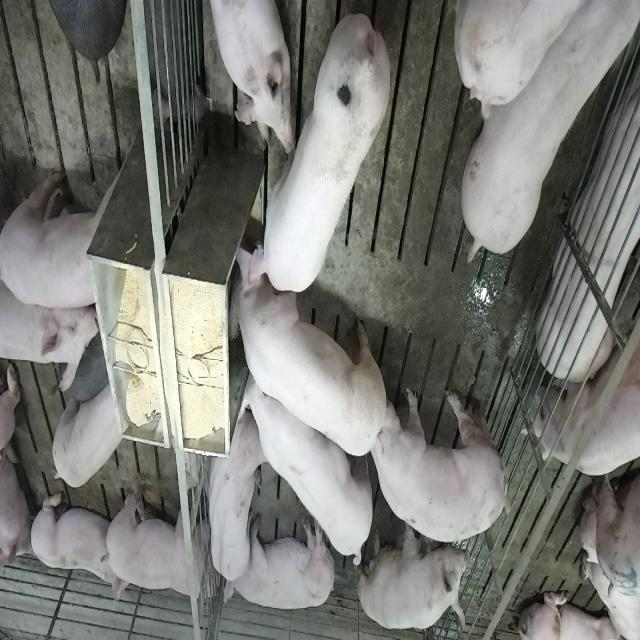Feeding: (244, 14, 394, 298), (221, 258, 383, 467)
Lateral_lying: (539, 26, 640, 388), (222, 512, 337, 612)
Sitting: (356, 515, 472, 632)
Standing: (460, 1, 640, 260), (242, 358, 376, 570), (374, 380, 514, 547), (1, 153, 126, 308), (103, 470, 219, 610), (534, 330, 640, 474), (3, 245, 104, 392), (50, 382, 124, 488)
Sternal_lying: (206, 0, 293, 157), (28, 486, 124, 606), (203, 408, 265, 584)
